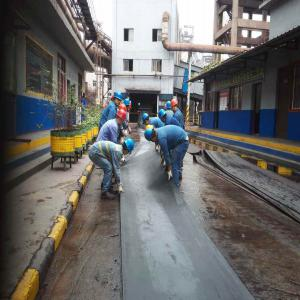blue: (123, 138, 135, 157), (146, 128, 157, 144), (158, 109, 168, 124), (114, 92, 123, 107), (143, 113, 151, 126), (124, 98, 131, 110)
red: (118, 110, 127, 126), (172, 99, 179, 112)
